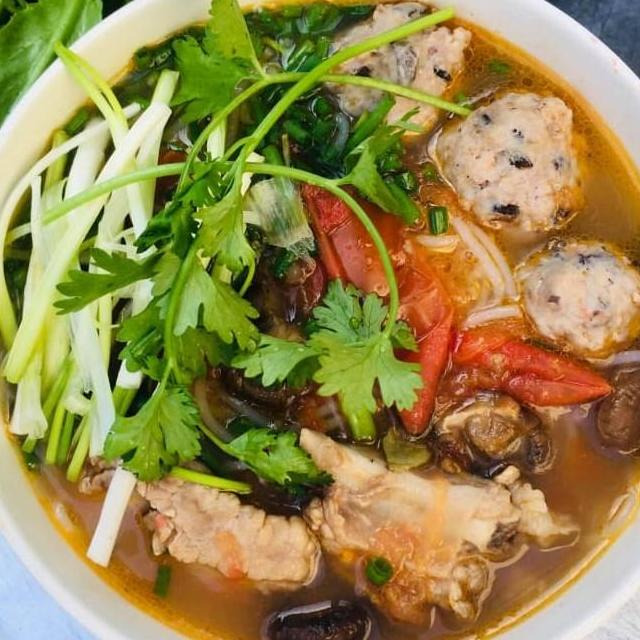thit heo: (284, 410, 579, 638), (108, 443, 330, 607)
vien moc: (310, 3, 475, 158), (432, 89, 593, 242), (507, 224, 640, 384)
